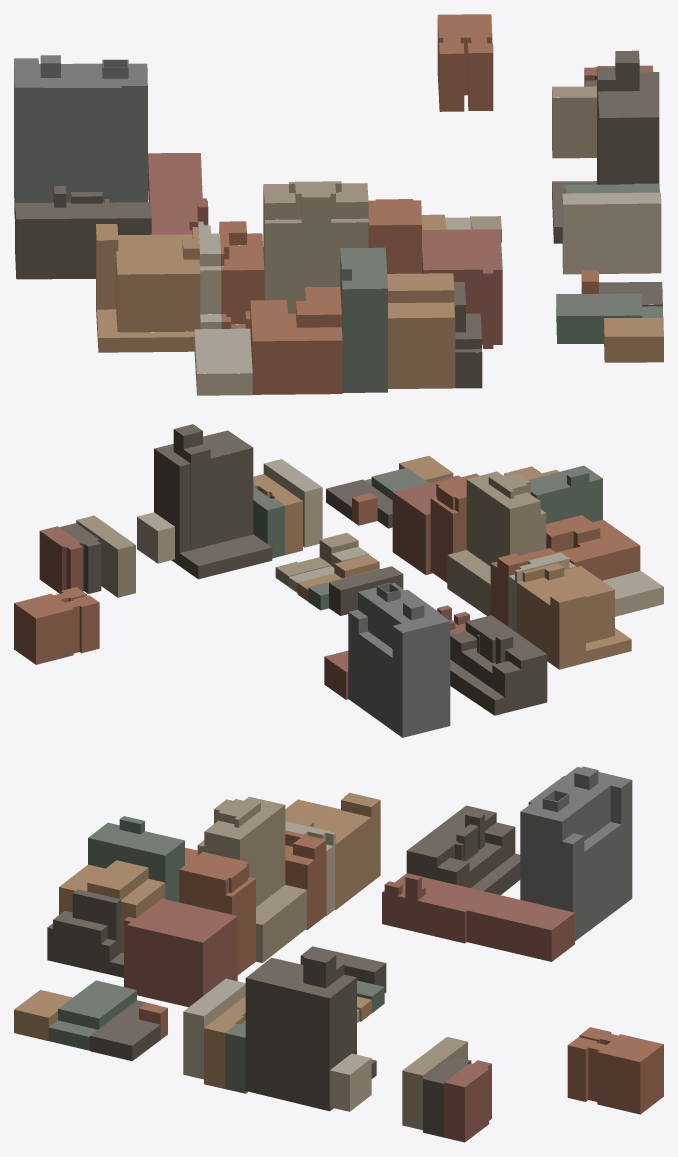
Rendered from tile--3_-12.glb.
3 renders of one model, top to bottom at view 1: azimuth 30°, elevation 25°; view 2: azimuth 150°, elevation 25°; view 3: azimuth 270°, elevation 25°, orthographic. The views are drawn at different scales.
Parts seen in each view (by area): view 1: wall, roof; view 2: wall, roof; view 3: wall, roof.
Part boxes in pixels (box(x1,y1,x2,y2)): wall: box(14, 18, 663, 395); roof: box(14, 14, 663, 373); wall: box(14, 429, 663, 737); roof: box(14, 424, 663, 699); wall: box(14, 770, 663, 1142); roof: box(14, 766, 663, 1087).
Bounding box in the file's own units: 212 × 49.04 × 204.
